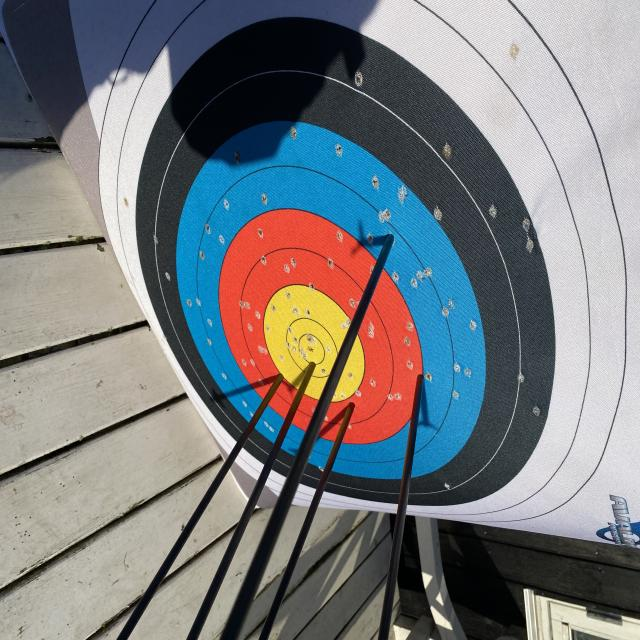Arrow_Blue: (368, 219, 402, 251)
Arrow_Red: (402, 354, 437, 406), (264, 358, 292, 389), (339, 388, 360, 428)
Arrow_Yellow: (297, 341, 324, 389)
